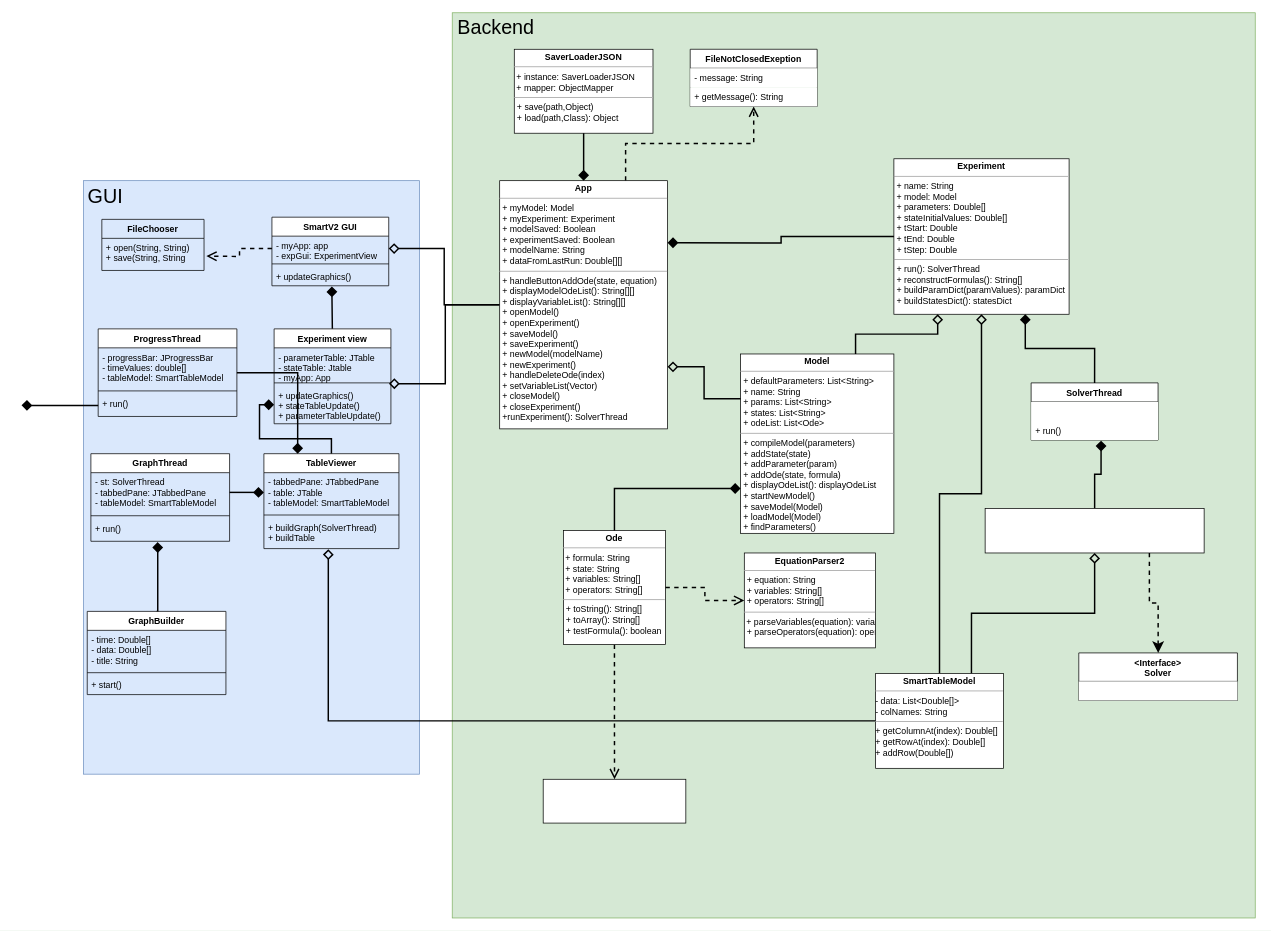
This 1275x931 diagram has some shape labels left out. Each missing label, with the centre of its shape:
"+ solve(odeFormulas,S0,P,tEnd,tStep)" belongs at (1157,690).
"- tableModel: SmartTableModel" belongs at (1094,411).
"SolverEulerForward + solve(odeFormulas,S0,P,tEnd,tStep)" belongs at (1094,530).
"StdFSubber + substitute(String odeFormula) String" belongs at (614,801).
